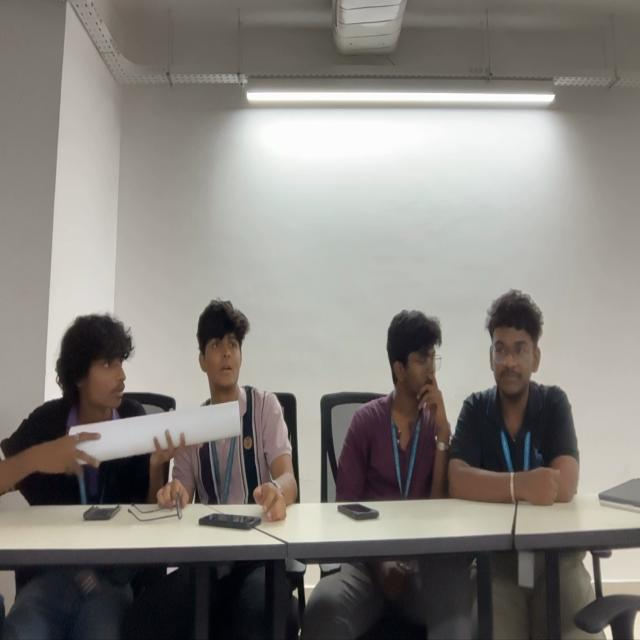Isolated: (458, 298, 570, 490), (340, 278, 441, 472)
socializing: (2, 260, 296, 524)
